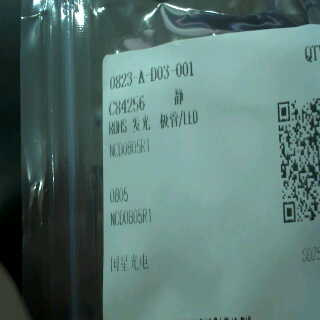LED: (132, 108, 206, 132)
